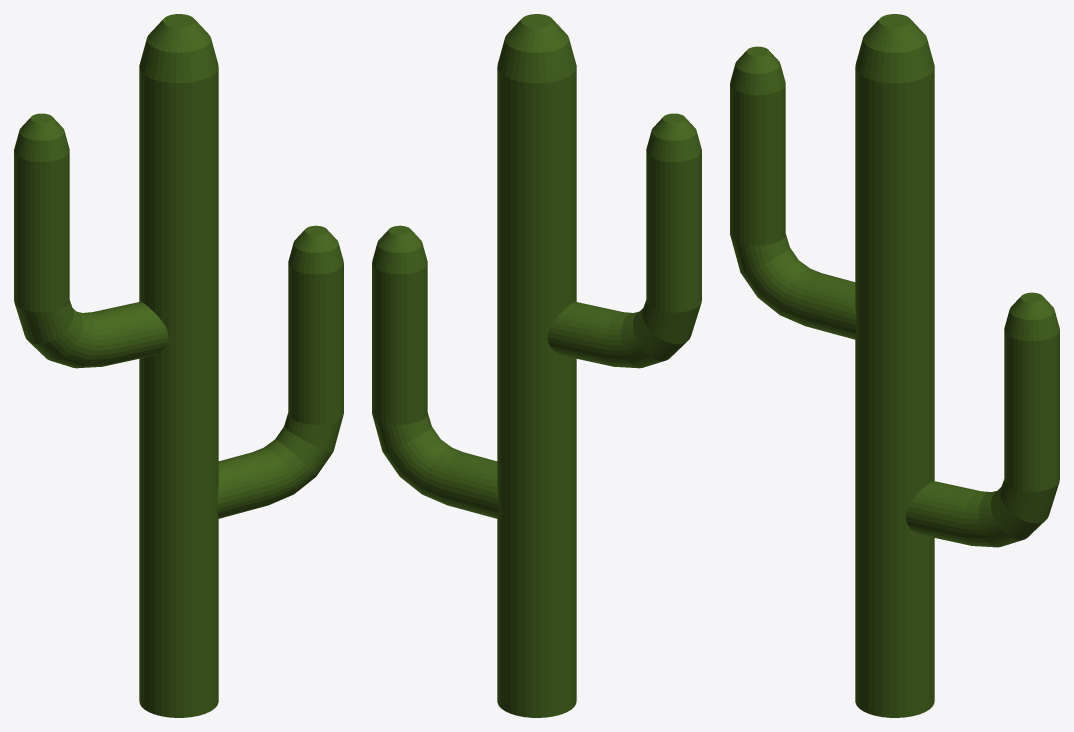
Rendered from Cactus_1.fbx.
3 views of the same model, side by side, from view 1: azimuth 30°, elevation 25°; view 2: azimuth 150°, elevation 25°; view 3: azimuth 330°, elevation 25° (orthographic).
Visible parts, largest first — view 1: Body; view 2: Body; view 3: Body.
Part boxes in pixels (box(x1,y1,x2,y2)): Body: box(14, 14, 343, 717); Body: box(372, 14, 701, 717); Body: box(730, 14, 1059, 717).
Size of the model in its own units: 146 by 294 by 31.07.
